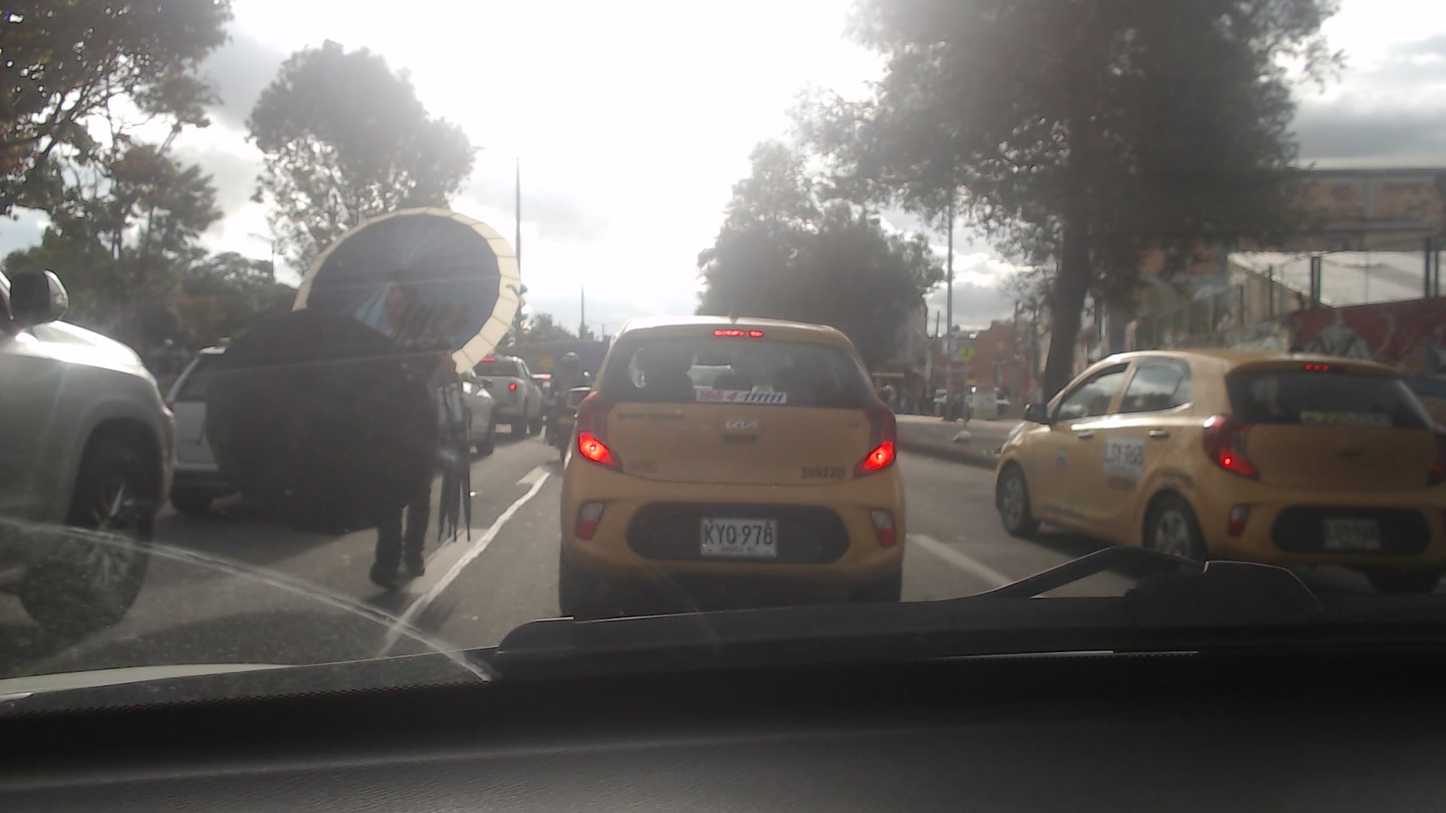car: (994, 344, 1446, 581), (558, 315, 910, 601)
person: (355, 279, 452, 593)
